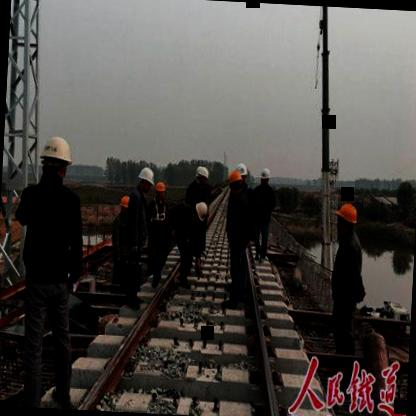helmet: (37, 132, 75, 184), (333, 198, 360, 240), (134, 162, 156, 196), (189, 199, 212, 224), (226, 170, 247, 194), (193, 163, 213, 187), (118, 192, 135, 218), (257, 165, 271, 188), (152, 178, 166, 200), (235, 161, 249, 182)
